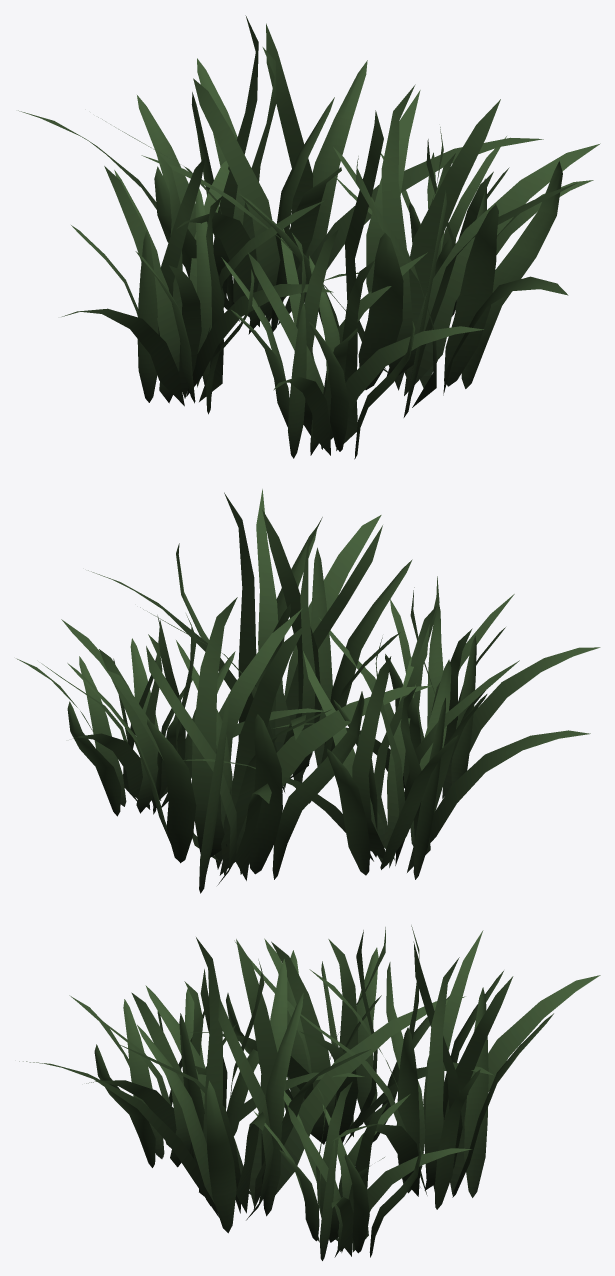
Rendered from Grass Cluster 1.fbx.
The picture shows the model from 3 angles, top to bottom: view 1: azimuth 30°, elevation 25°; view 2: azimuth 150°, elevation 25°; view 3: azimuth 270°, elevation 25°; orthographic projection. The views are drawn at different scales.
Parts seen in each view (by area): view 1: Grass_Cluster; view 2: Grass_Cluster; view 3: Grass_Cluster.
Boxes of the visible parts, x1=… form: Grass_Cluster: x1=18, y1=15, x2=600, y2=459; Grass_Cluster: x1=16, y1=489, x2=600, y2=893; Grass_Cluster: x1=19, y1=925, x2=600, y2=1260.
Bounding box in the file's own units: 34.4 × 17.44 × 34.97.
Materials: 1 (1 with a texture image).
